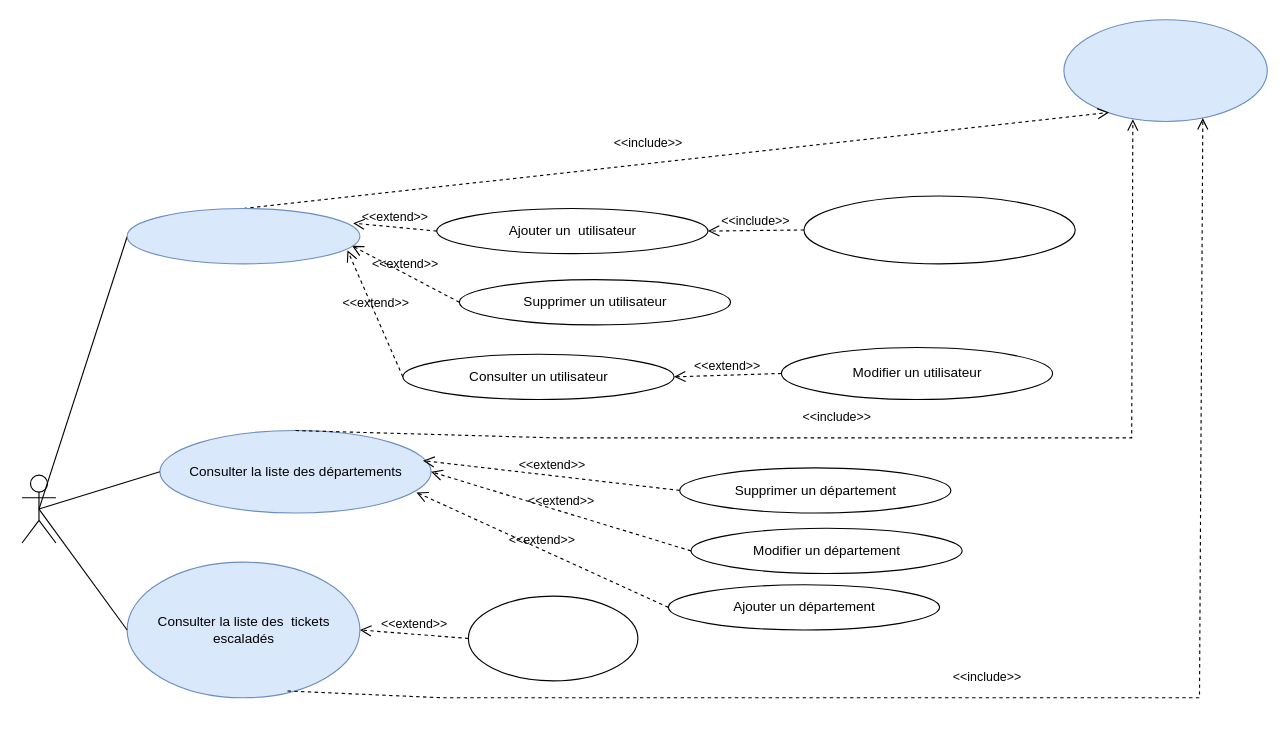
Image size: 1287x729. Some labels were removed from this diagram. Each missing label, with the centre of its shape:
"Admin" goes at point (38, 508).
"Affecter un rôle et un département" goes at point (939, 229).
"Consulter la liste des utilisateur" goes at point (243, 235).
"Réaffecter un ticket" goes at point (552, 638).
"S'authentifier" goes at point (1165, 70).
